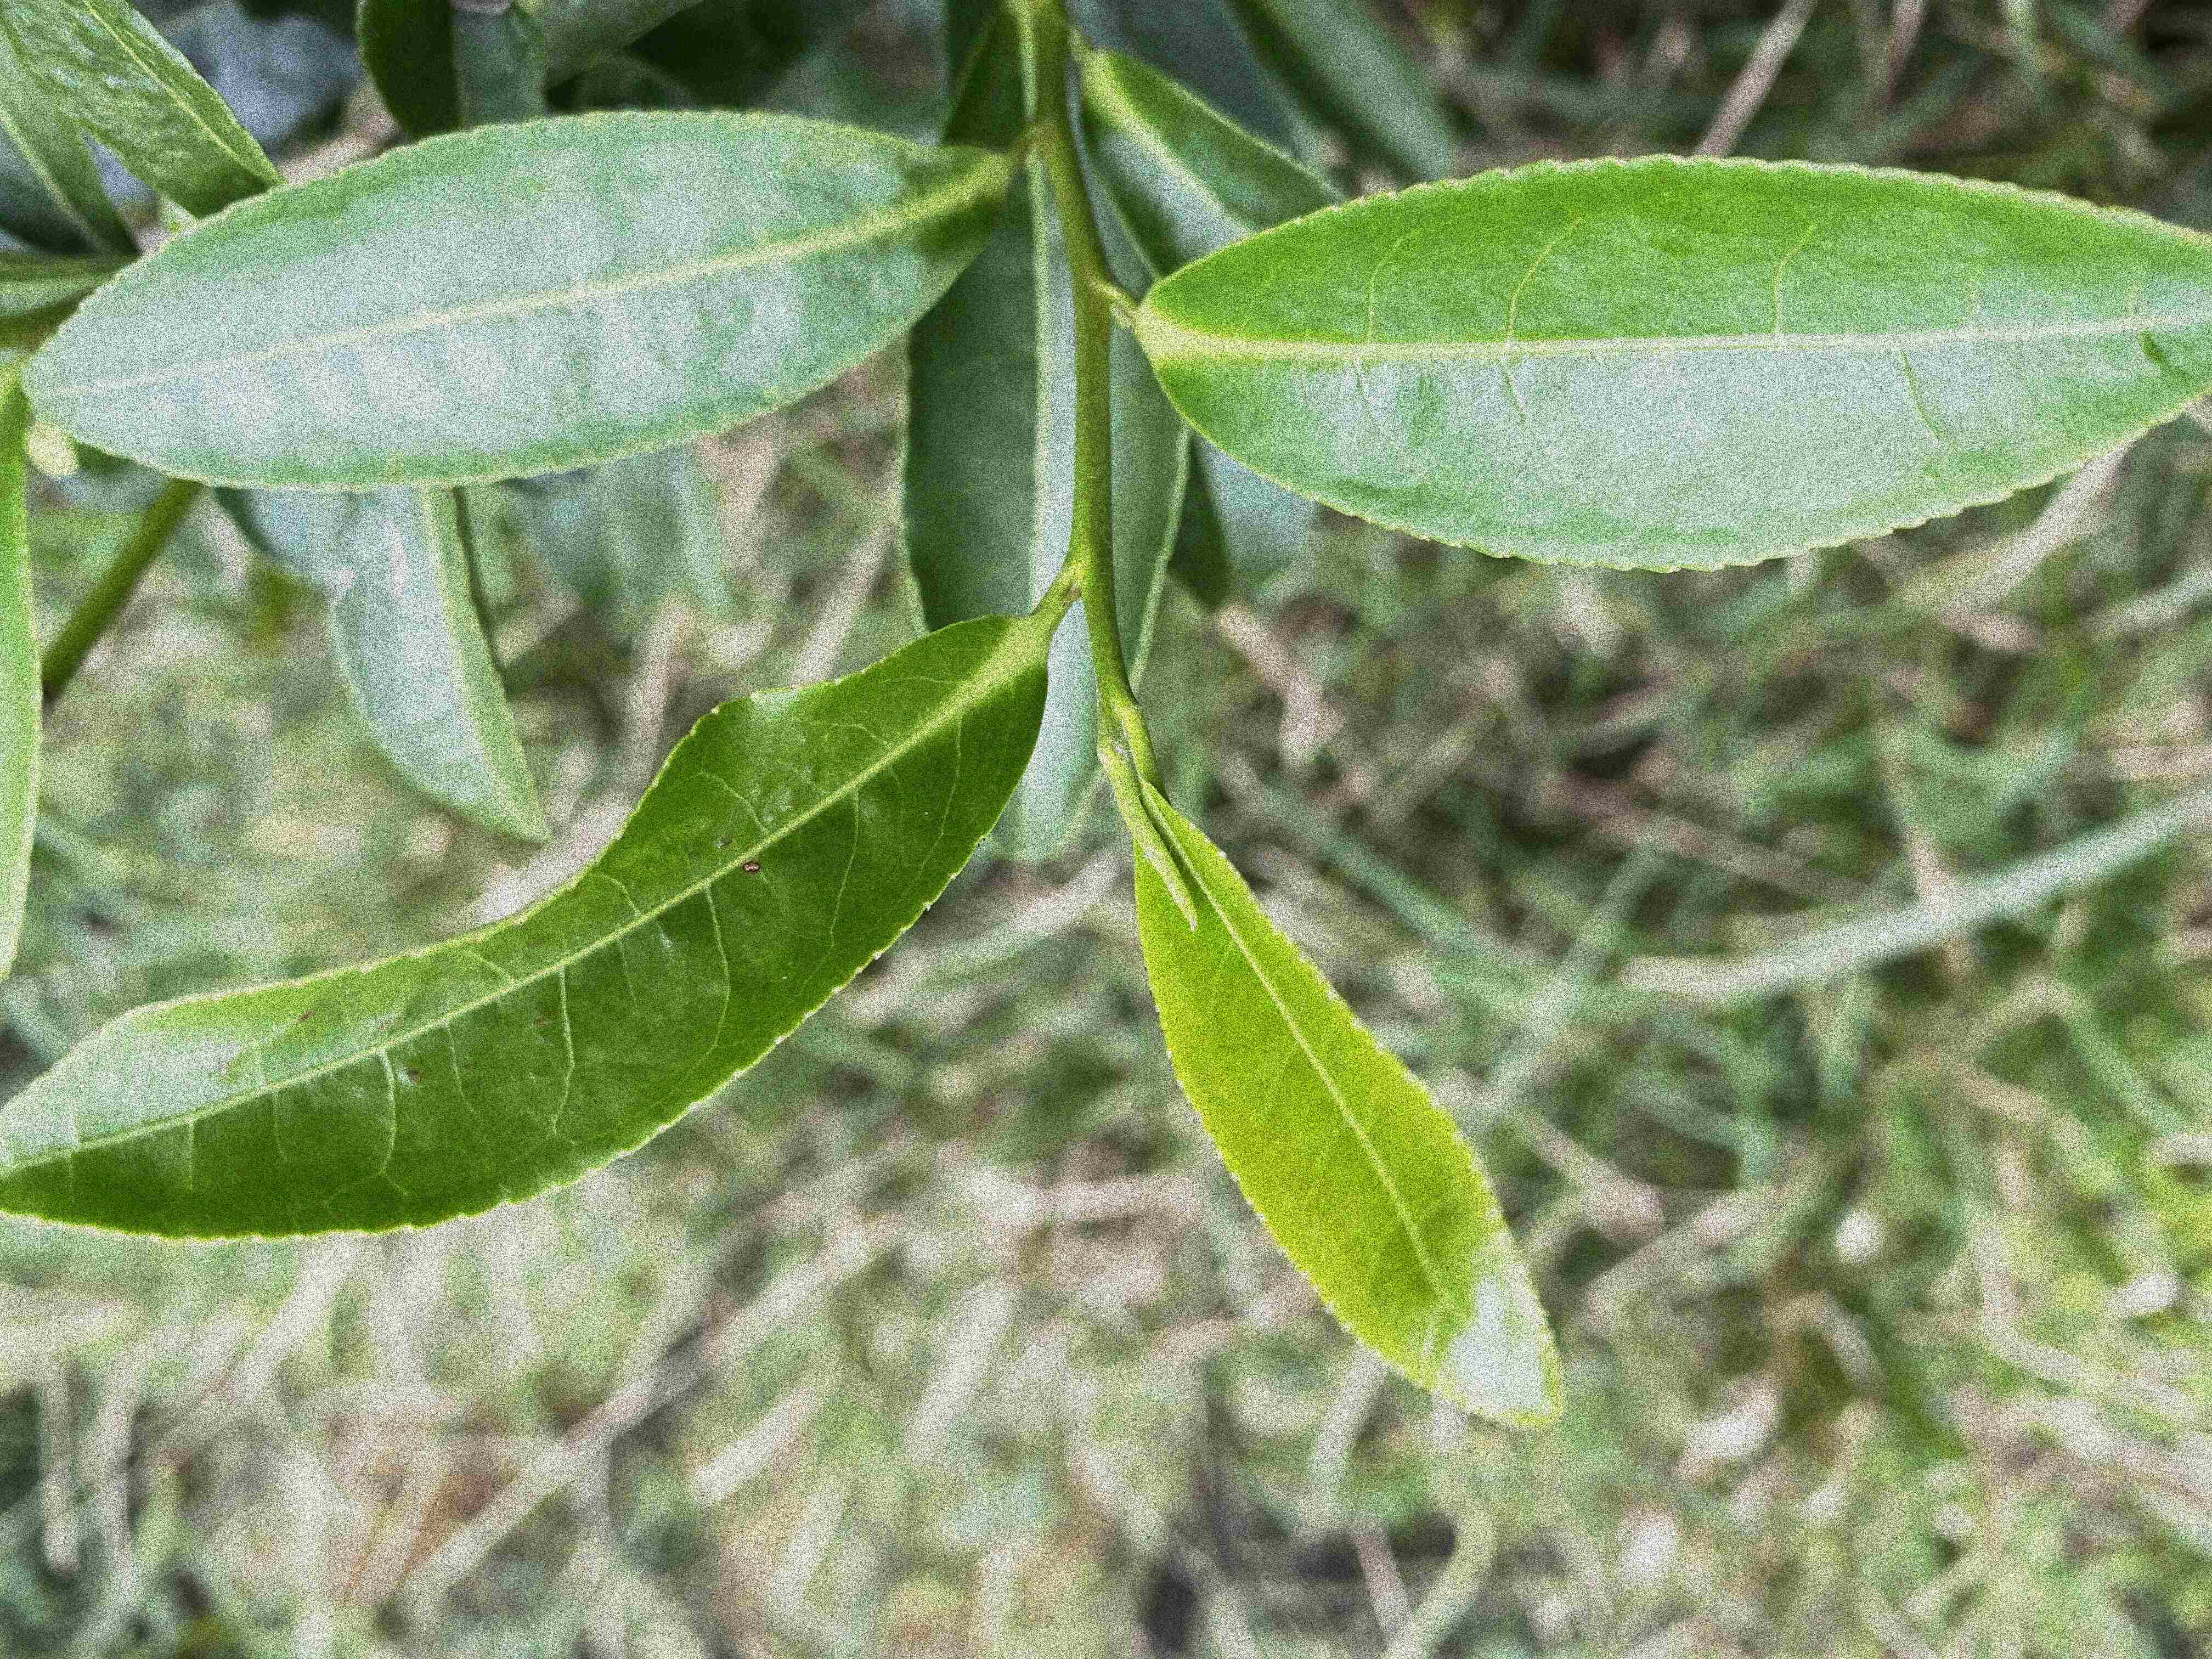healthy: (1137, 153, 2209, 577), (17, 110, 1003, 495), (1134, 775, 1568, 1431)
tanju_low: (0, 615, 1052, 1239)
